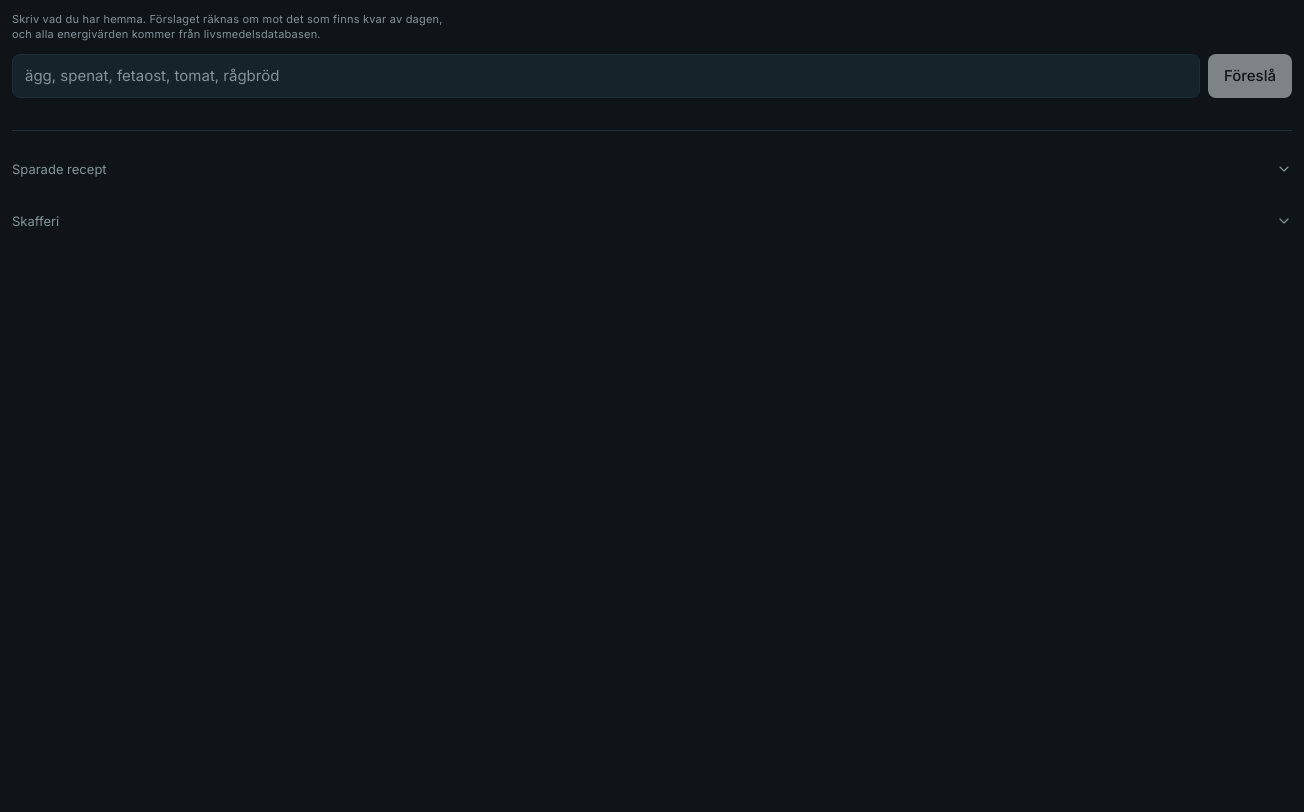
Scenario: the recipe generator when it is up › shows the budget it worked to, and prices from the database
Step 1. Type "ägg, spenat" into the field named "har jag hemma" → coordinates (606, 76), box [12,54,1200,98]
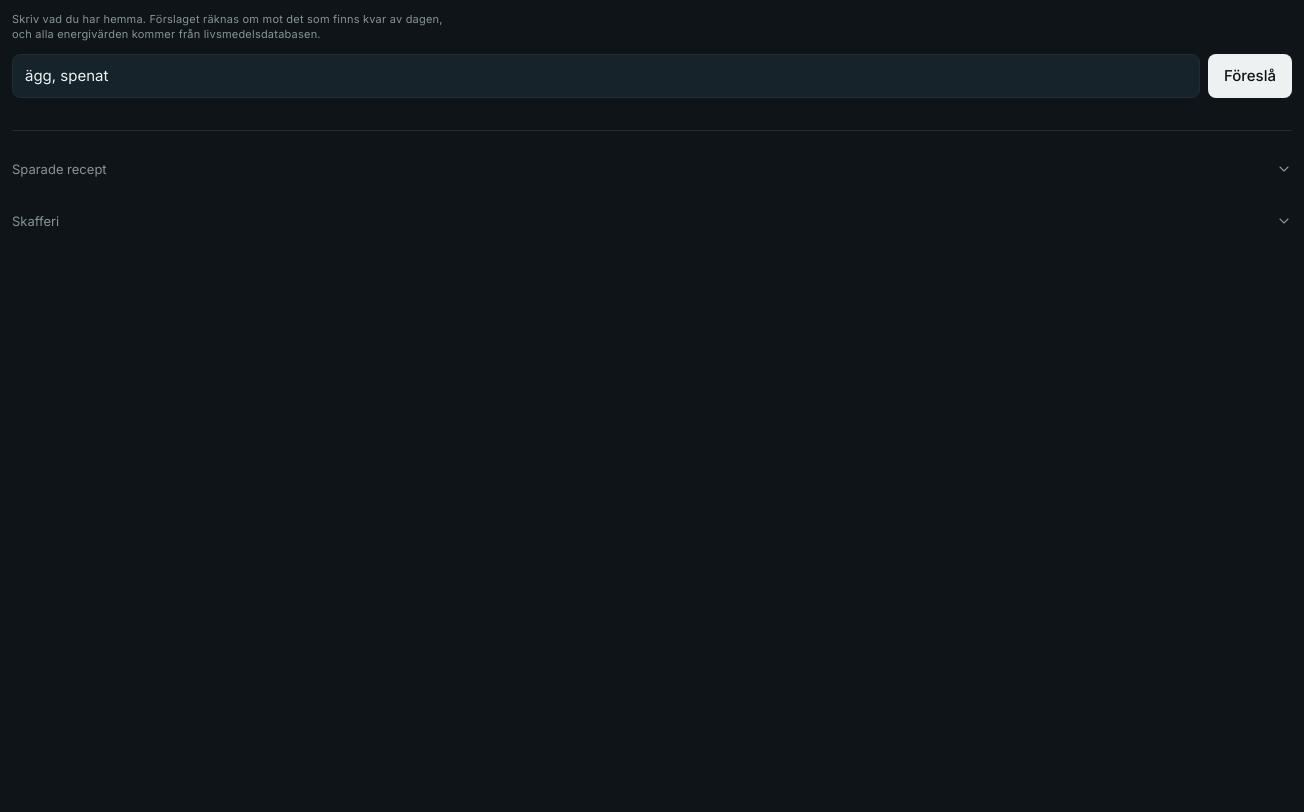
Step 2. Click the button with test id "generate-recipe" → coordinates (1250, 76), box [1208,54,1292,98]
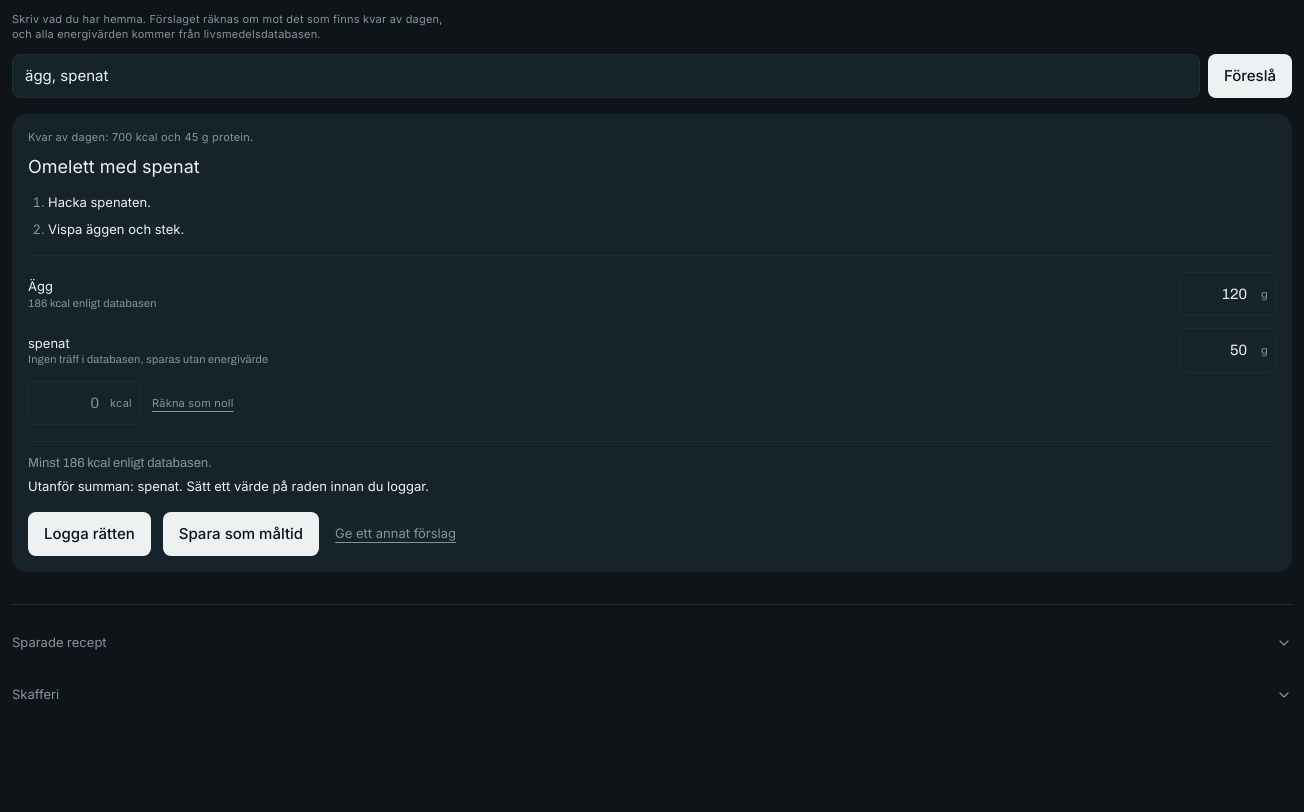
Check: the element with test id "recipe-result" shows "700", box [28,130,253,144]
Check: the element with test id "recipe-result" shows "Omelett med spenat", box [28,156,200,177]
Check: the element with test id "recipe-result" shows "186 kcal enligt databasen", box [28,297,157,309]
